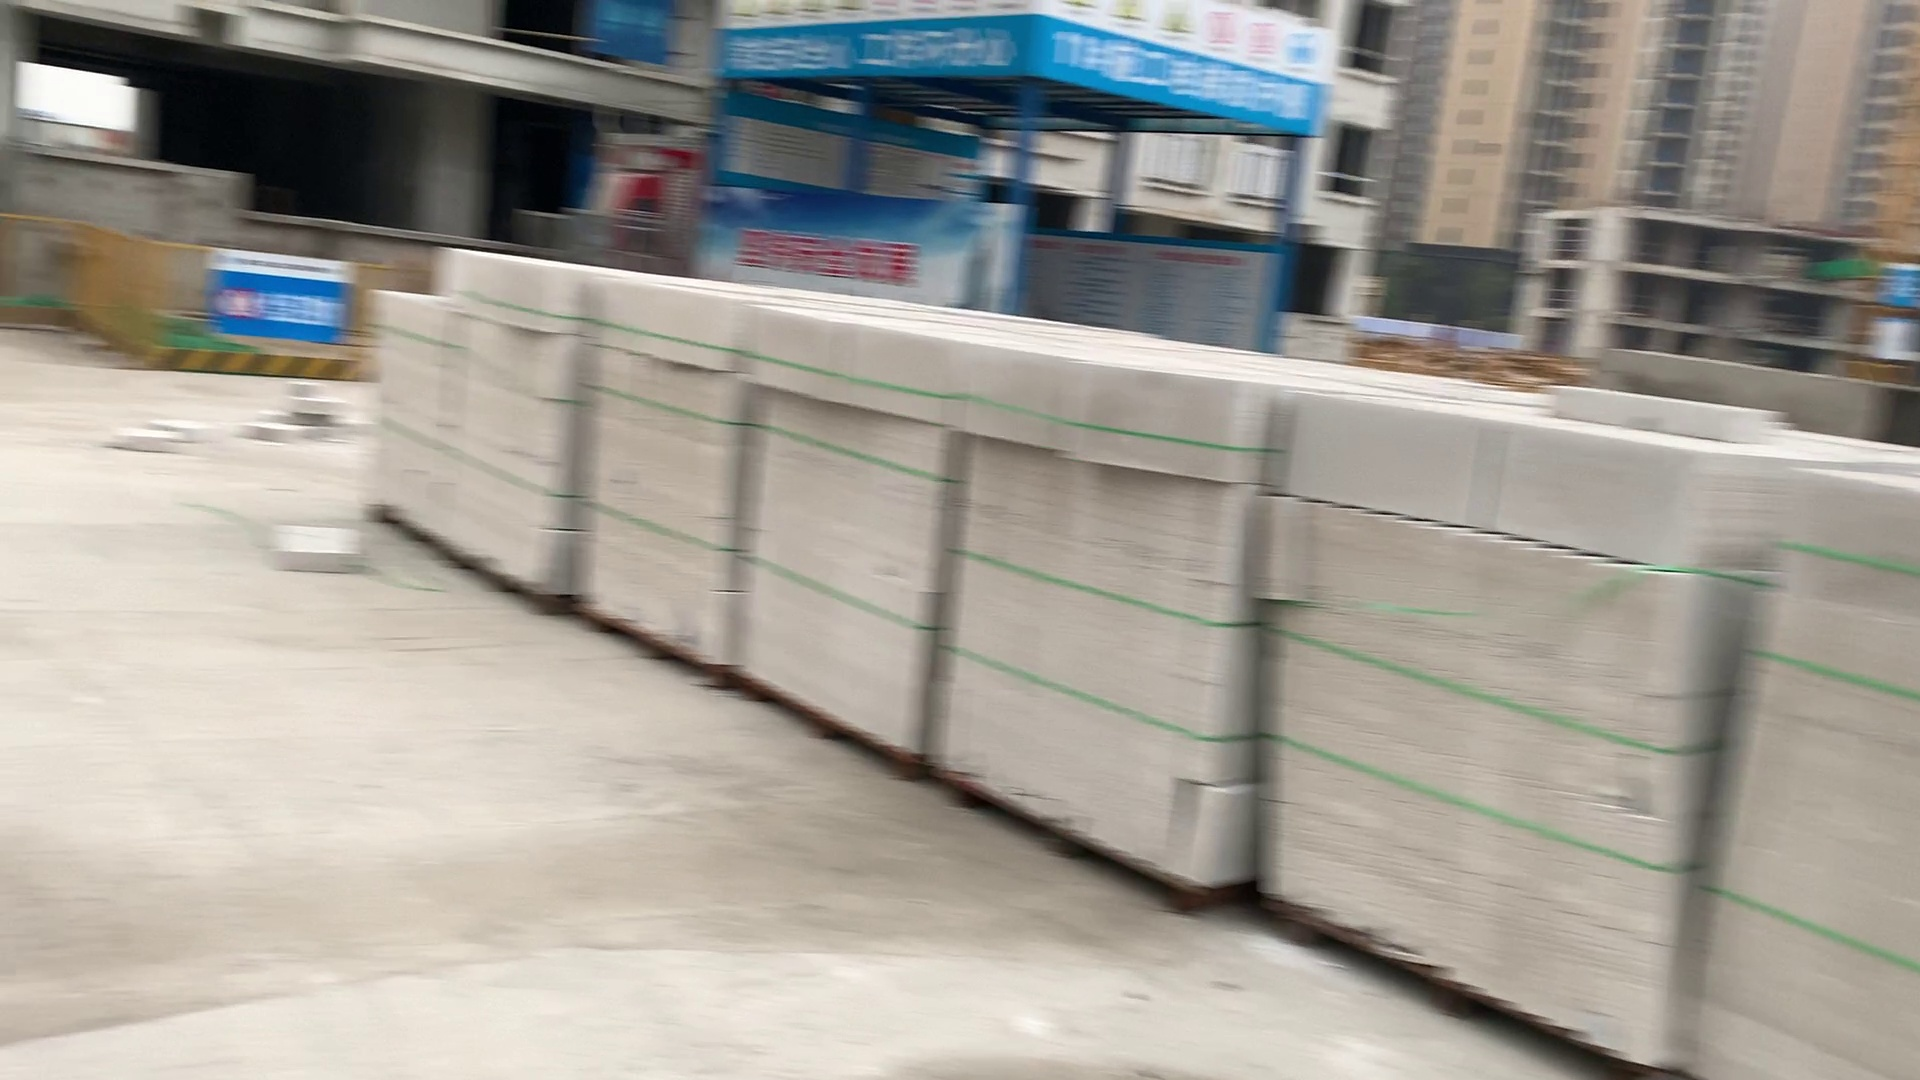brickwork: (1247, 369, 1785, 1073), (928, 327, 1261, 852), (1667, 450, 1920, 1039), (756, 294, 947, 779), (600, 262, 738, 692), (444, 243, 574, 601), (357, 278, 455, 555)
